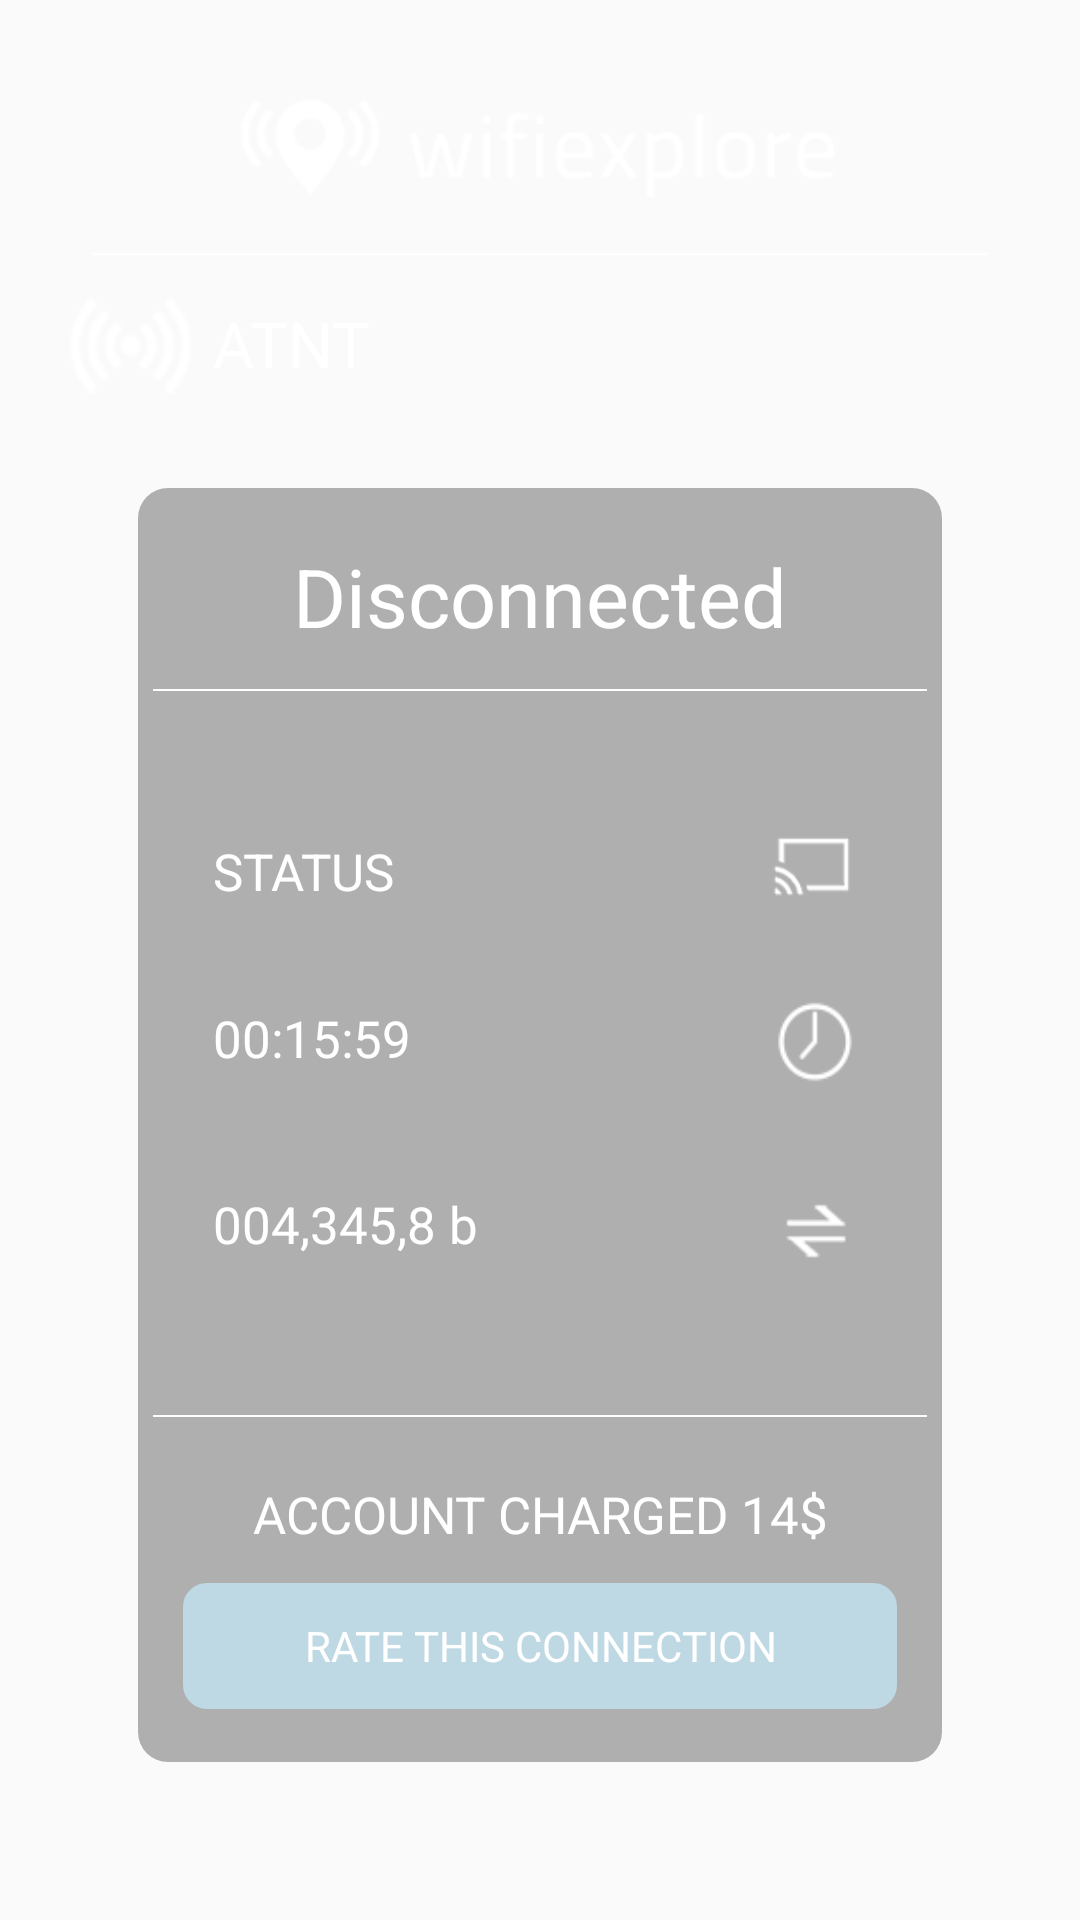

Named icons in this screenshot (1080px x 1920px) and their bounding boxes, (x1, y1, x2, y2):
clock: (778, 1003, 851, 1081)
updown: (787, 1205, 846, 1257)
